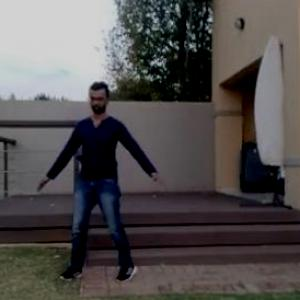land: (44, 92, 164, 290)
